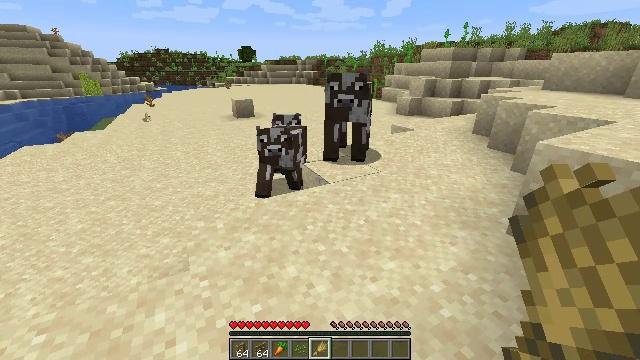cow: (325, 74, 372, 163), (257, 127, 308, 194), (272, 112, 304, 129)
